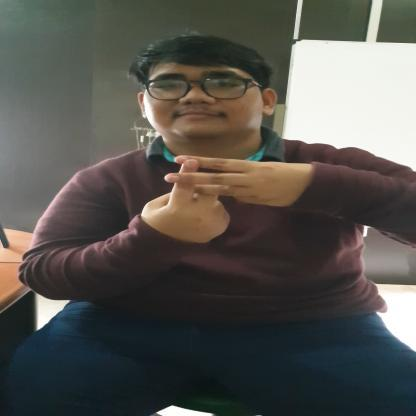B: (140, 154, 311, 240)
